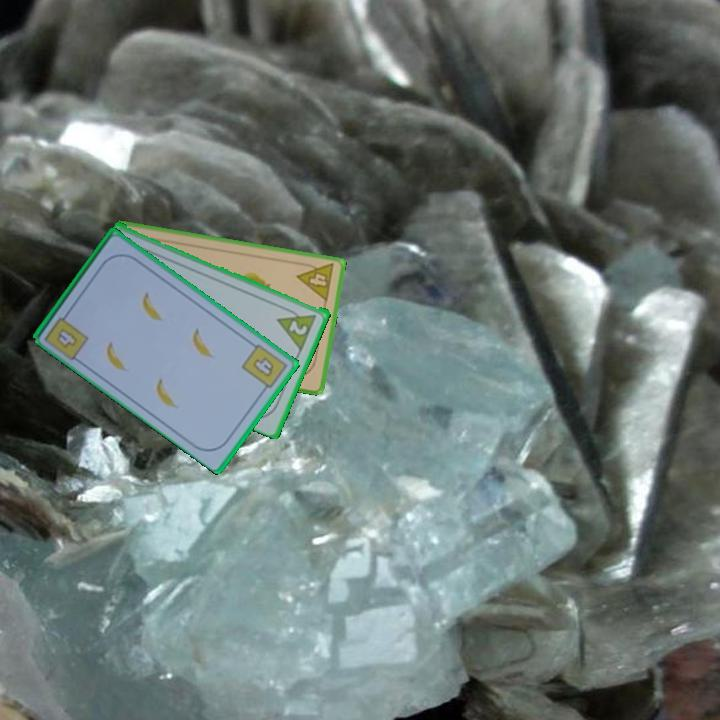2p: (285, 316, 311, 338)
4b: (238, 340, 290, 396), (53, 324, 81, 351)
4p: (294, 258, 337, 304)
